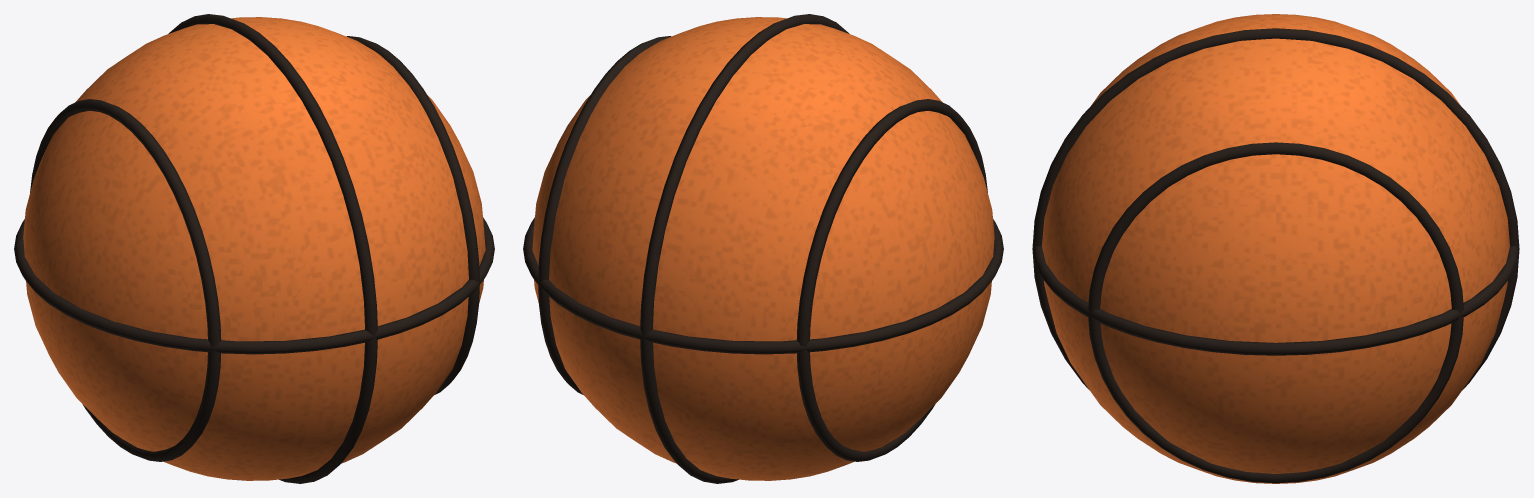
Rendered from Basketball.fbx.
3 views of the same model, side by side, from view 1: azimuth 30°, elevation 25°; view 2: azimuth 150°, elevation 25°; view 3: azimuth 270°, elevation 25° (orthographic).
Visible parts, largest first — view 1: BallMesh; view 2: BallMesh; view 3: BallMesh.
Part boxes in pixels (left/top/right/bottom): BallMesh: left=14, top=14, right=494, bottom=483; BallMesh: left=523, top=14, right=1003, bottom=483; BallMesh: left=1032, top=14, right=1519, bottom=483.
Size of the model in its own units: 0.29 by 0.29 by 0.29.
1 material, 1 textured.
